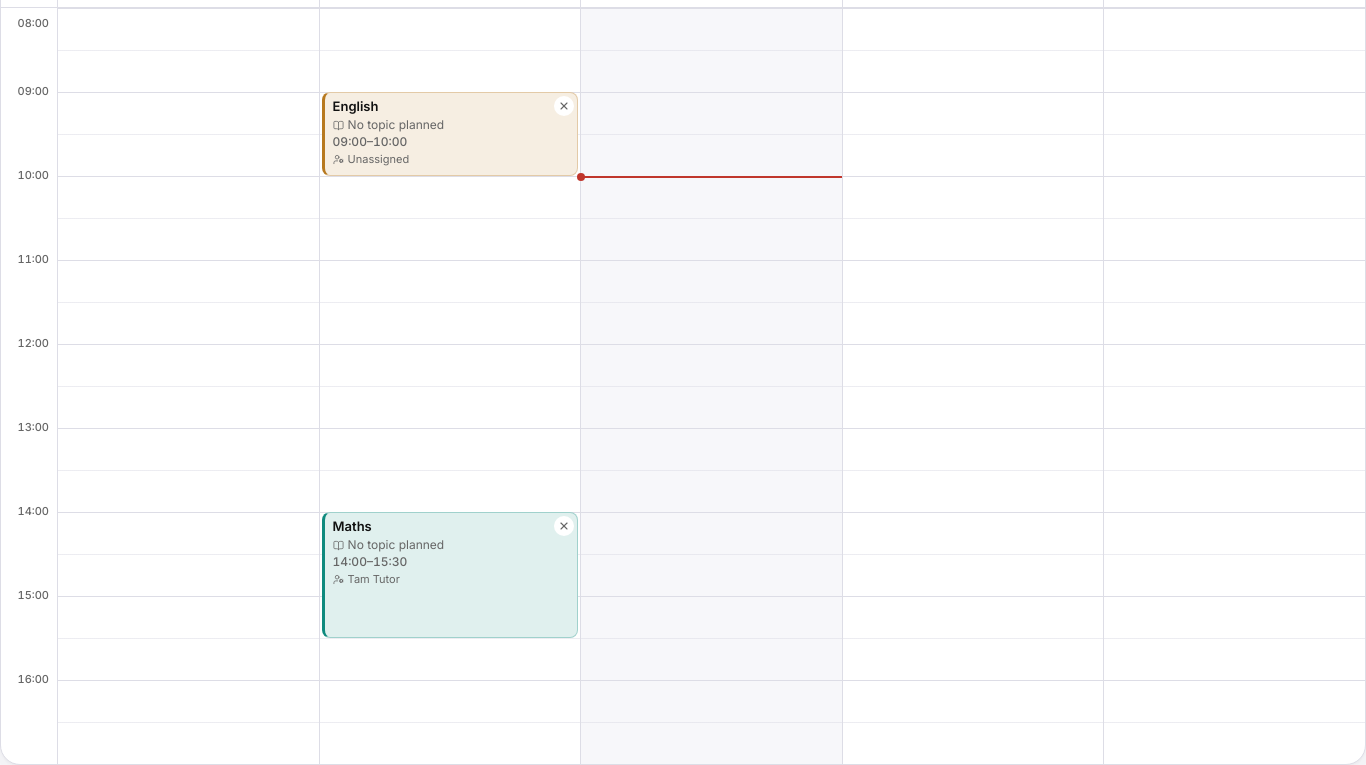
Scenario: TimetablePage changing and removing sessions › Remove from timetable in the dialog also works
The width and height of the screenshot is (1366, 765).
(page scrolled)
Click the button with aria-label "Edit Maths".
click(451, 575)  # box [325,513,577,637]
(page scrolled)
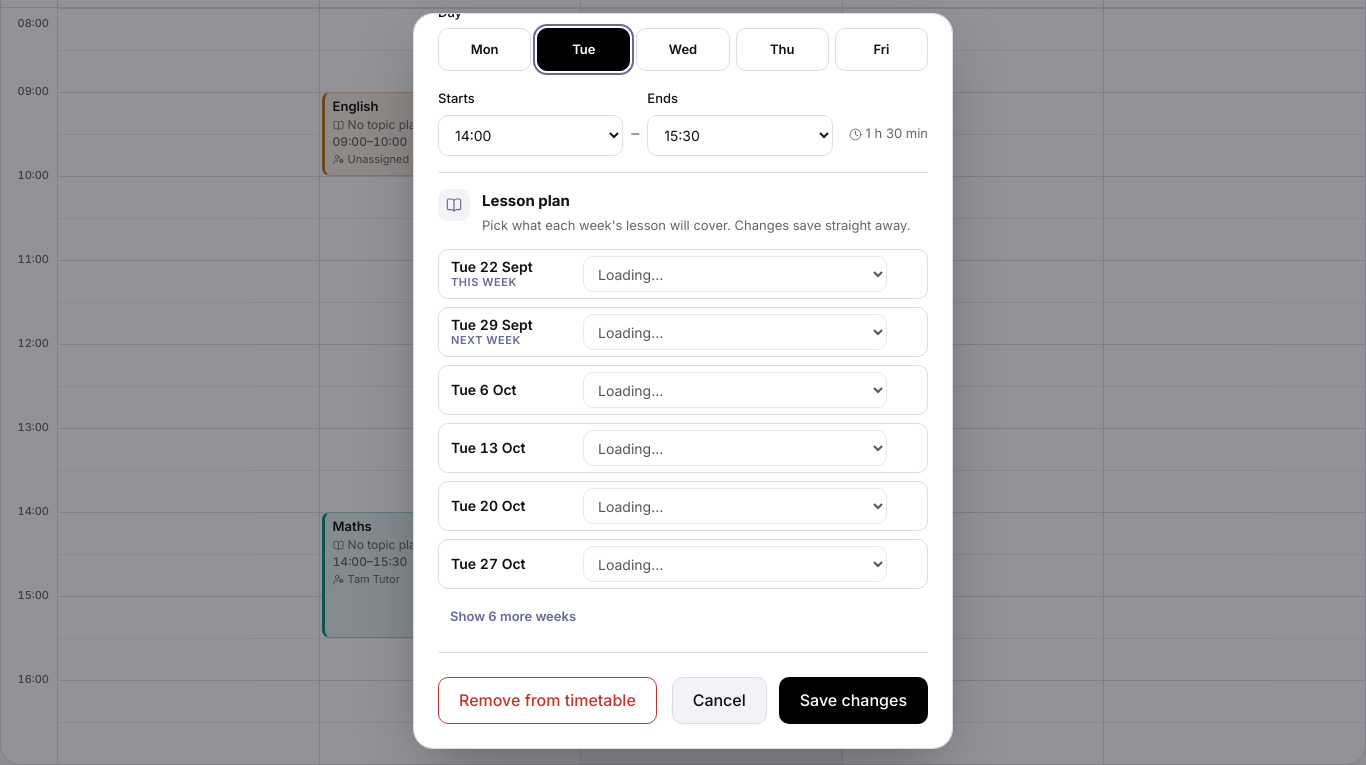
Click the button "Remove from timetable".
click(547, 701)  # box [438,677,657,724]
(page scrolled)
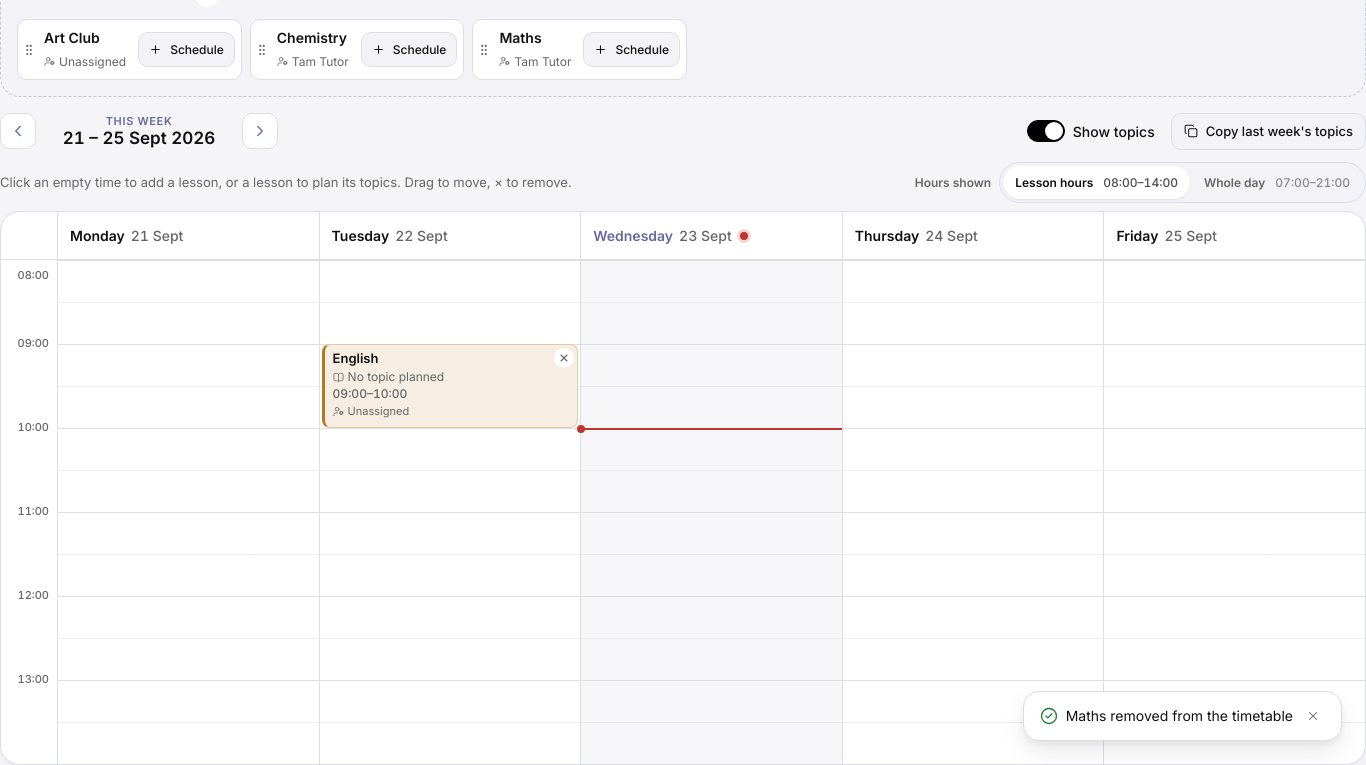
Now the dialog is gone
